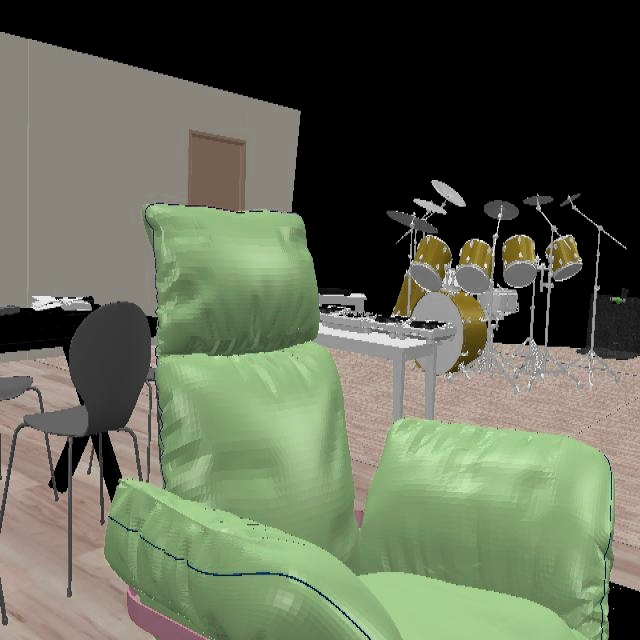chair: (38, 303, 151, 495)
sofa: (103, 204, 615, 640)
